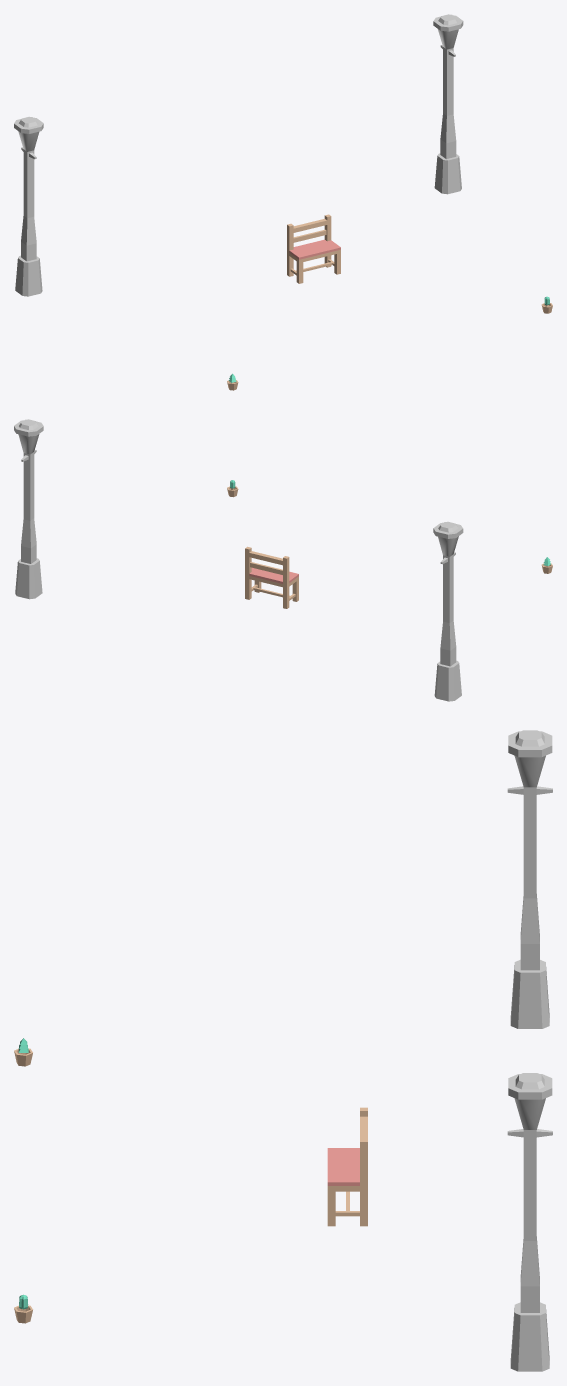
Rendered from combo-night-rest.glb.
3 renders of one model, top to bottom at view 1: azimuth 30°, elevation 25°; view 2: azimuth 150°, elevation 25°; view 3: azimuth 270°, elevation 25°, orthographic. The views are drawn at different scales.
Visible parts, largest first — view 1: asset-017_2, asset-017_3, asset-002_0, asset-002_1; view 2: asset-017_3, asset-017_2, asset-002_0, asset-002_1; view 3: asset-017_3, asset-017_2, asset-002_0, asset-002_1.
Part boxes in pixels (x1,y1,x2,y2): asset-017_2: (14,116,43,296); asset-017_3: (433,14,463,194); asset-002_0: (287,214,340,283); asset-002_1: (289,239,340,259); asset-017_3: (14,419,43,599); asset-017_2: (433,521,463,701); asset-002_0: (245,546,298,608); asset-002_1: (249,567,298,583); asset-017_3: (507,1073,552,1371); asset-017_2: (507,730,552,1028); asset-002_0: (327,1107,367,1226); asset-002_1: (327,1148,359,1185).
Bounding box in the file's own units: 4.22 × 1.56 × 2.66.
